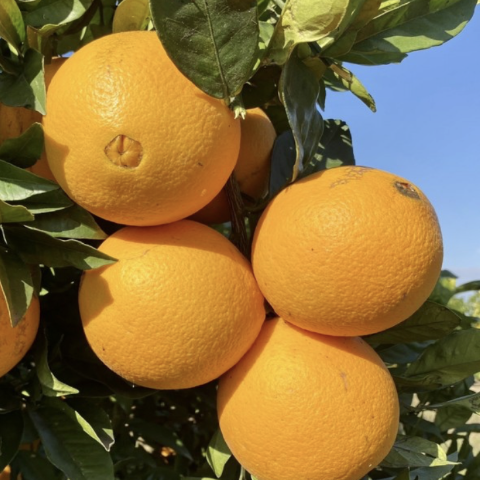orange: (35, 22, 263, 228), (189, 304, 423, 476), (63, 206, 271, 386), (251, 169, 465, 333)
